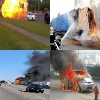fire: (60, 67, 93, 93), (2, 0, 29, 19), (87, 5, 100, 40), (14, 78, 23, 85)
